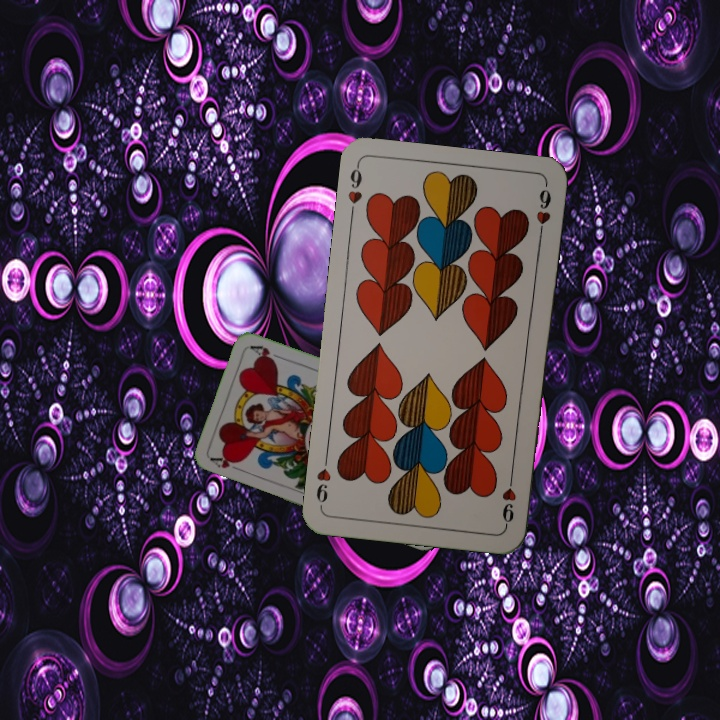H9: (498, 469, 519, 528), (344, 161, 365, 220)
HA: (207, 452, 246, 474)
